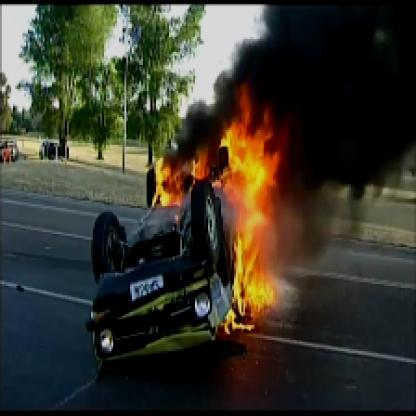Fire: (132, 76, 304, 344)
